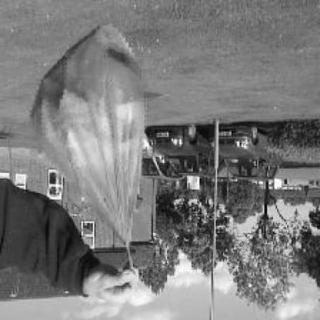other: (22, 29, 154, 258)
